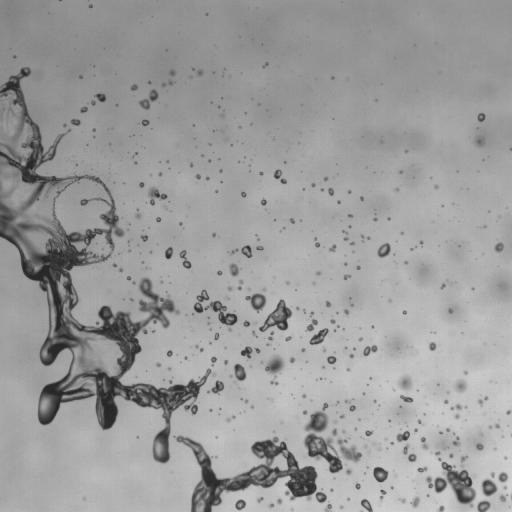droplet: (304, 403, 361, 473), (425, 451, 476, 507), (259, 299, 292, 331), (265, 355, 284, 384), (245, 293, 266, 312), (148, 186, 166, 205), (230, 363, 246, 380), (481, 479, 497, 496), (241, 346, 260, 358), (373, 467, 388, 482), (398, 375, 411, 390), (208, 380, 223, 393), (273, 169, 286, 183), (377, 243, 390, 257), (362, 345, 377, 356), (396, 430, 409, 442), (361, 499, 373, 511), (241, 245, 252, 258), (455, 379, 466, 392), (477, 500, 490, 511), (229, 263, 239, 276), (235, 499, 245, 511), (420, 437, 428, 449), (95, 93, 105, 102), (475, 136, 484, 146), (494, 242, 503, 252), (498, 472, 507, 482), (165, 247, 173, 258), (411, 496, 419, 507), (327, 356, 336, 364), (452, 437, 460, 446), (477, 113, 485, 121), (324, 503, 332, 511), (429, 342, 436, 350), (71, 119, 80, 125), (418, 466, 427, 472), (476, 443, 483, 450), (365, 430, 373, 436), (436, 505, 444, 511), (135, 211, 141, 218), (243, 321, 250, 327), (460, 456, 467, 462), (211, 357, 216, 365), (131, 84, 137, 90), (141, 235, 147, 241), (329, 245, 335, 251), (214, 333, 220, 339), (349, 405, 355, 411), (500, 495, 506, 501), (80, 107, 87, 112), (142, 120, 149, 125), (328, 188, 333, 195), (261, 199, 266, 205), (325, 301, 330, 307), (285, 336, 291, 341), (167, 350, 172, 356), (346, 468, 351, 474), (277, 498, 282, 504), (399, 498, 405, 503), (170, 70, 175, 75), (197, 70, 202, 75), (241, 192, 246, 197), (344, 274, 349, 279), (344, 309, 349, 314), (290, 357, 295, 362), (355, 483, 360, 488), (257, 497, 262, 502), (257, 246, 263, 250), (252, 331, 256, 337), (91, 100, 95, 105), (196, 174, 200, 179), (139, 182, 143, 187), (290, 218, 294, 223), (315, 242, 319, 247), (227, 286, 232, 290), (330, 319, 335, 323), (349, 353, 353, 358), (345, 399, 350, 403), (506, 410, 511, 414), (454, 414, 459, 418), (494, 424, 499, 428), (263, 63, 267, 67), (259, 171, 263, 175), (156, 217, 160, 221), (373, 217, 377, 221), (112, 263, 116, 267), (118, 268, 122, 272), (217, 271, 221, 275), (441, 284, 445, 288), (448, 309, 452, 313), (402, 310, 406, 314), (156, 363, 160, 367), (302, 394, 306, 398), (303, 410, 307, 414), (340, 414, 344, 418), (377, 446, 381, 450), (449, 453, 453, 457), (310, 311, 313, 316), (169, 80, 172, 84), (158, 172, 161, 176), (348, 214, 352, 217), (361, 235, 364, 239), (420, 241, 423, 245), (350, 242, 354, 245), (317, 271, 320, 275), (127, 276, 130, 280), (359, 337, 362, 341), (301, 348, 305, 351), (224, 360, 227, 364), (464, 370, 467, 374), (444, 400, 448, 403), (491, 472, 494, 476), (269, 504, 273, 507), (324, 177, 327, 180), (434, 185, 437, 188), (360, 197, 363, 200), (343, 230, 346, 233), (344, 237, 347, 240), (357, 266, 360, 269), (200, 348, 203, 351), (418, 420, 421, 423), (446, 428, 449, 431), (443, 446, 446, 449), (509, 494, 511, 498), (89, 4, 91, 7), (63, 124, 66, 126), (190, 163, 192, 166), (206, 177, 209, 179), (312, 183, 314, 186), (395, 188, 398, 190), (337, 201, 340, 203), (212, 234, 215, 236), (367, 236, 369, 239), (344, 263, 347, 265), (286, 281, 288, 284), (263, 288, 265, 291), (195, 345, 198, 347), (323, 348, 325, 351), (347, 368, 349, 371), (334, 420, 336, 423), (489, 425, 491, 428), (503, 486, 506, 488), (67, 130, 69, 132), (134, 153, 136, 155), (400, 171, 402, 173), (215, 190, 217, 192), (405, 261, 407, 263), (130, 298, 132, 300), (296, 307, 298, 309), (267, 343, 269, 345), (245, 400, 247, 402), (374, 400, 376, 402), (251, 406, 253, 408), (343, 430, 345, 432), (373, 442, 375, 444), (426, 494, 428, 496), (347, 498, 349, 500), (340, 506, 342, 508)
ligament: (0, 67, 215, 463), (175, 435, 327, 511), (194, 289, 237, 330), (139, 89, 158, 109), (309, 328, 328, 345), (403, 444, 416, 461), (179, 250, 191, 268), (306, 319, 317, 331), (400, 395, 412, 402), (450, 404, 464, 410), (478, 397, 487, 405), (379, 490, 385, 500), (0, 106, 4, 119), (226, 415, 234, 421), (238, 280, 243, 289), (268, 331, 273, 340), (230, 249, 237, 254), (0, 182, 1, 189)
